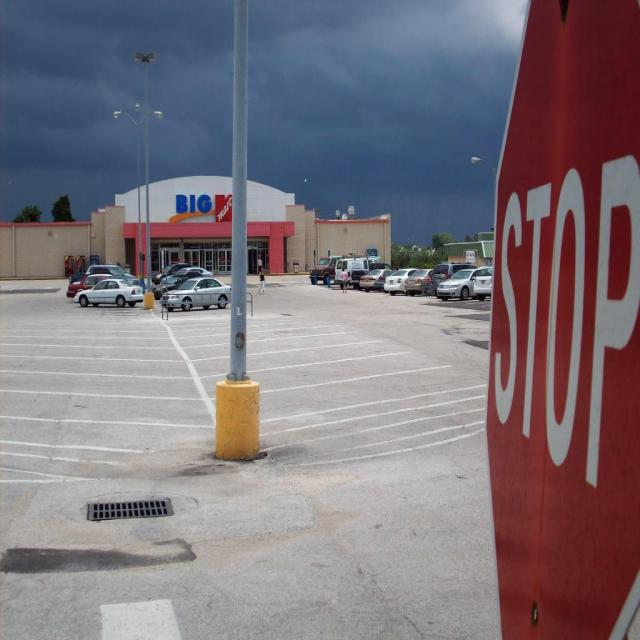Stop-sign: (483, 0, 639, 639)
